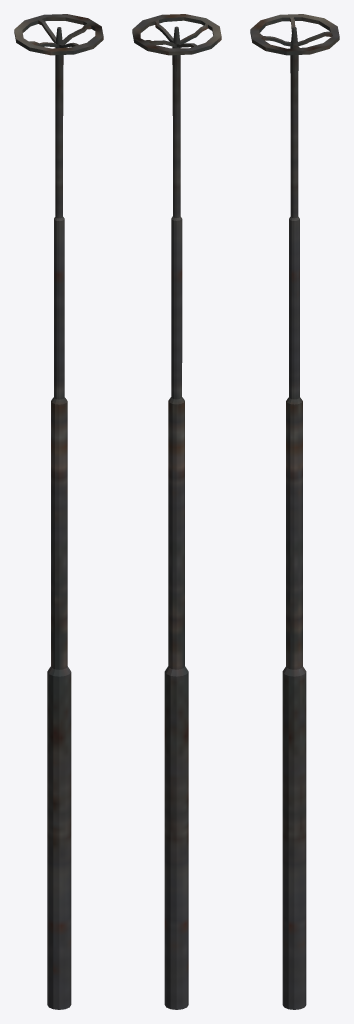
File: Mastil_Plaza.fbx
The picture shows the model from 3 angles, left to right: view 1: azimuth 30°, elevation 25°; view 2: azimuth 210°, elevation 25°; view 3: azimuth 270°, elevation 25°; orthographic projection.
Parts seen in each view (by area): view 1: Mastil_Plaza; view 2: Mastil_Plaza; view 3: Mastil_Plaza.
Boxes of the visible parts, <box> form: Mastil_Plaza: <box>14,14,103,1009</box>; Mastil_Plaza: <box>132,14,221,1009</box>; Mastil_Plaza: <box>250,14,339,1009</box>.
Size of the model in its own units: 194 by 2344 by 194.
